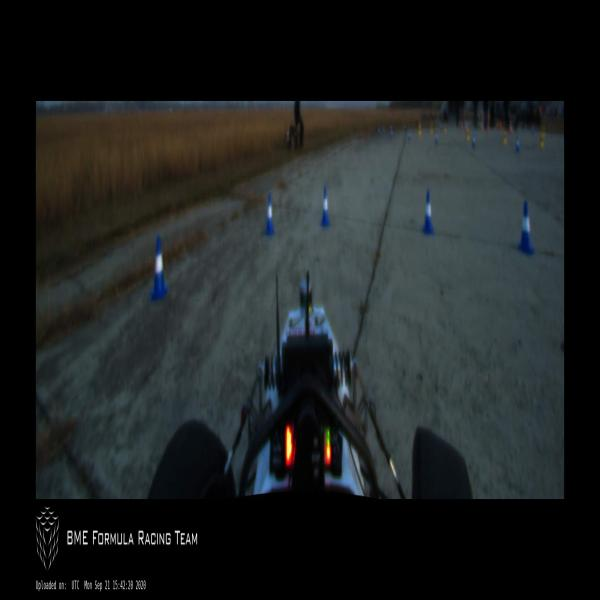blue_cone: (150, 237, 168, 300), (519, 200, 534, 256), (422, 190, 434, 235), (264, 194, 274, 234), (322, 187, 330, 227)
